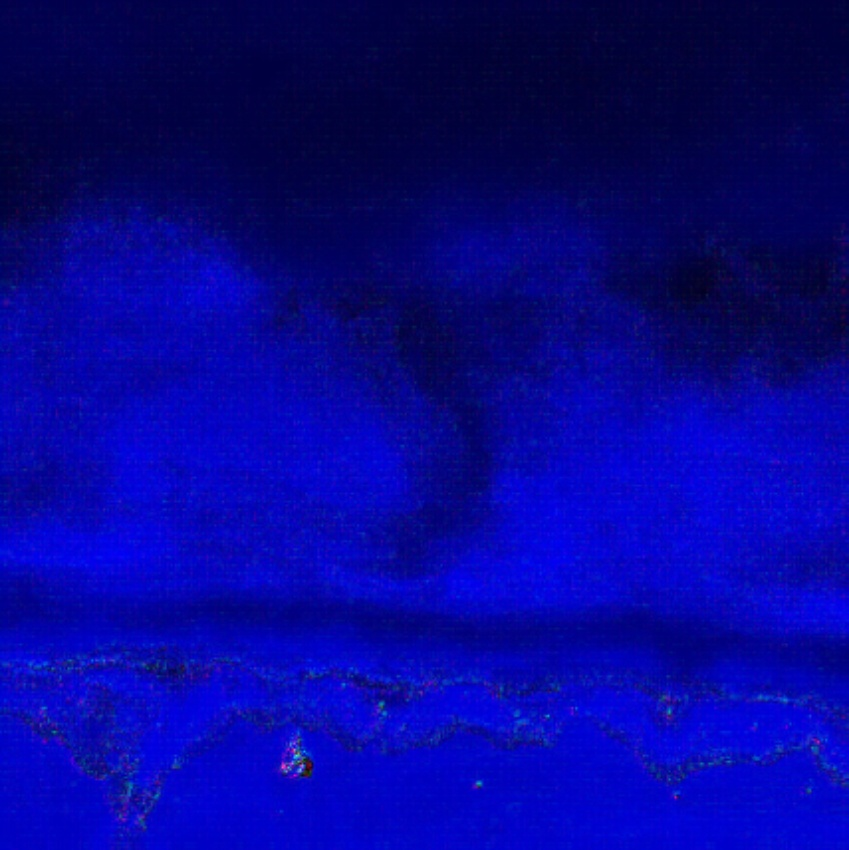rip_current: (298, 202, 571, 571)
